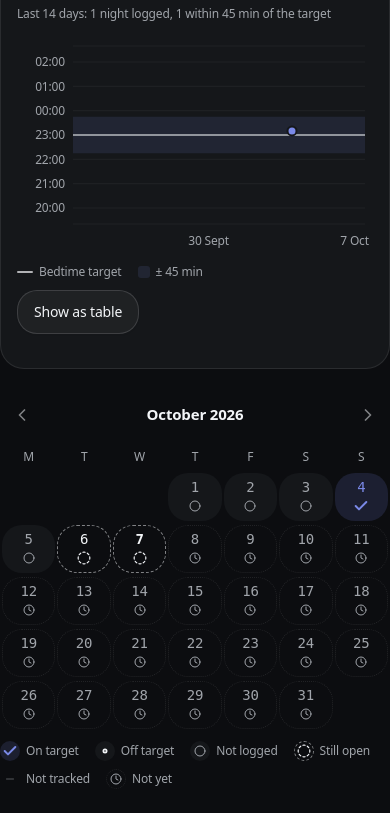
Test: SleepScreen › opens a closed night from the calendar, and today in the log sheet
(page scrolled)
Click the button named "Sunday 4 October: On target" at (361, 497), box left=334, top=473, right=388, bottom=521
(page scrolled)
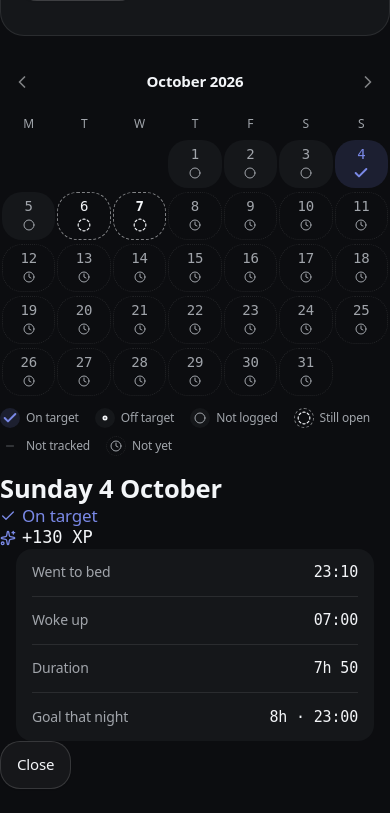
Now the text "+130 XP" is shown, box left=22, top=527, right=92, bottom=549
Click the button "Close" at (36, 765), box left=0, top=741, right=71, bottom=789
(page scrolled)
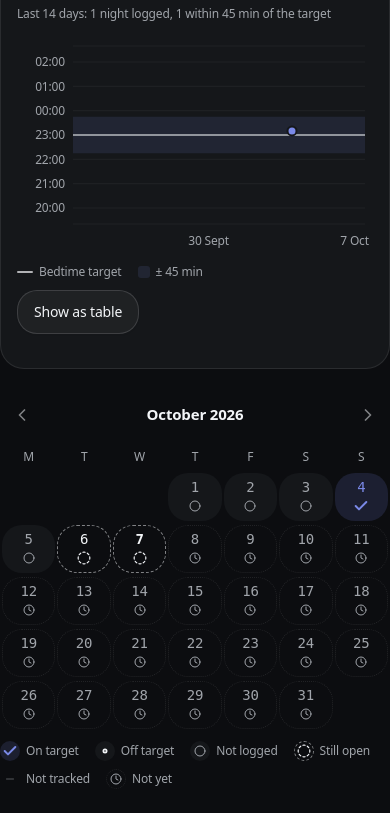
Now the dialog is gone
Click the button named "Wednesday 7 October: Still open" at (140, 549), box left=113, top=525, right=166, bottom=573
(page scrolled)
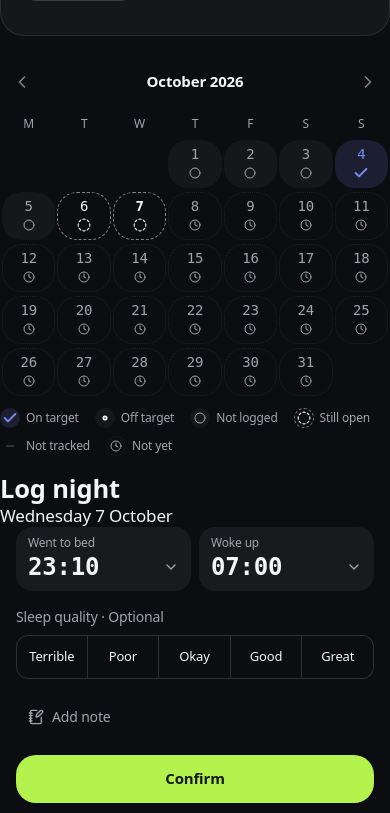
Now the heading "Log night" is shown, box left=0, top=471, right=120, bottom=505
